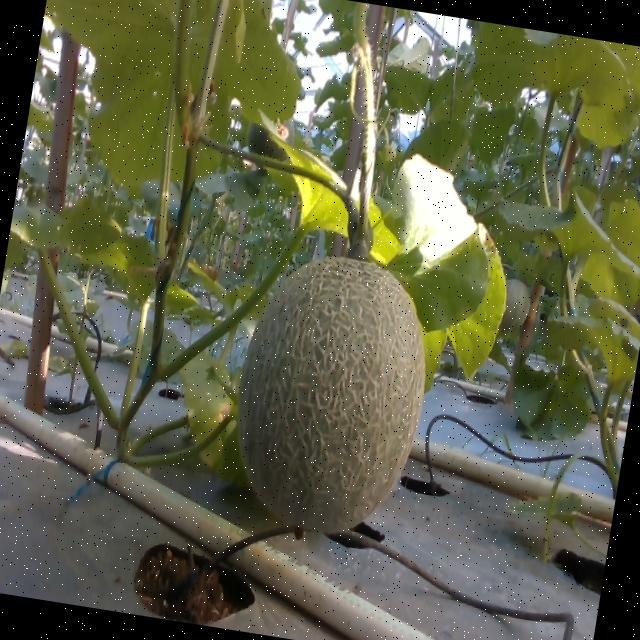melon: (239, 257, 426, 533)
